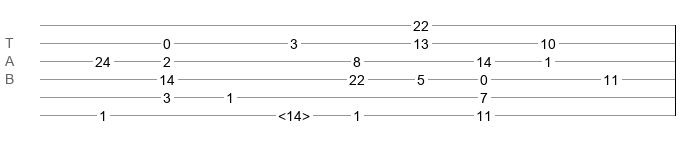0: (163, 36, 171, 46), (480, 72, 488, 82)
1: (99, 108, 107, 118), (226, 90, 234, 100), (353, 108, 361, 118), (544, 54, 552, 64)
10: (540, 36, 556, 46)
11: (476, 108, 492, 118), (603, 72, 619, 82)
13: (413, 36, 429, 46)
14: (159, 72, 175, 82), (476, 54, 492, 64)
2: (163, 54, 171, 64)
22: (349, 72, 365, 82), (413, 18, 429, 28)
24: (95, 54, 111, 64)
3: (163, 90, 171, 100), (290, 36, 298, 46)
5: (417, 72, 425, 82)
7: (480, 90, 488, 100)
8: (353, 54, 361, 64)
harmonic: (278, 108, 310, 118)
